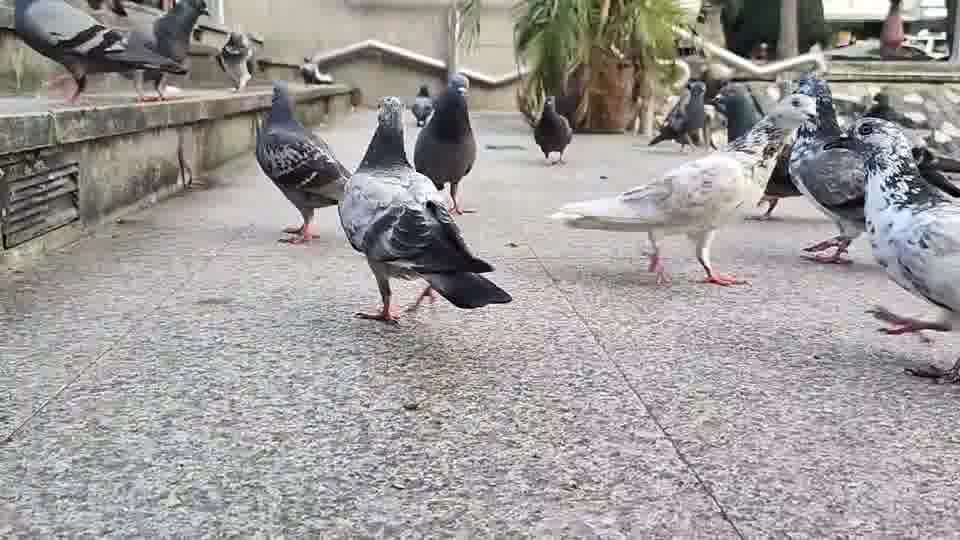Pigeon: (550, 114, 788, 288), (336, 94, 512, 323), (823, 114, 959, 384), (6, 0, 189, 106), (253, 79, 352, 244), (105, 0, 211, 103), (412, 73, 477, 215), (647, 79, 708, 153), (214, 29, 264, 92), (532, 95, 573, 166), (410, 85, 435, 126), (299, 56, 333, 86)
